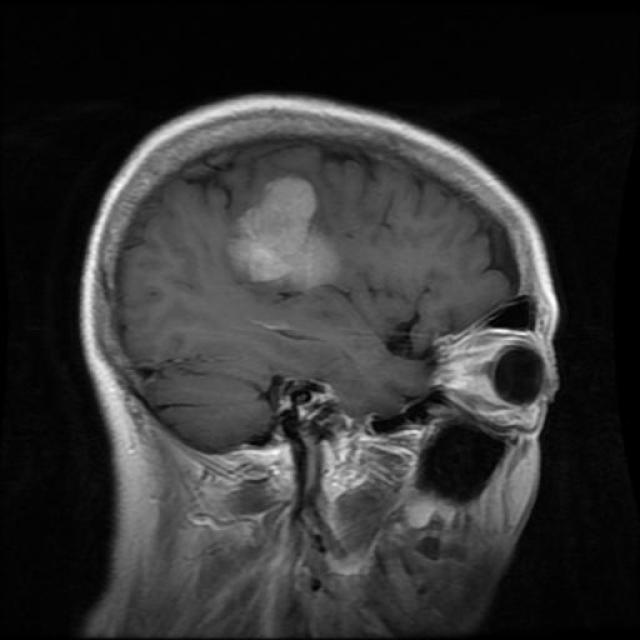meningioma: (229, 178, 339, 290)
